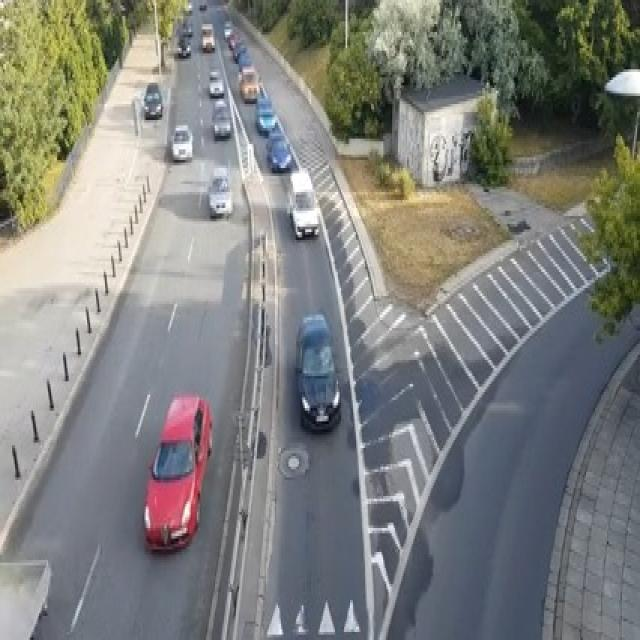car: (143, 392, 212, 552), (294, 312, 341, 432), (287, 168, 318, 237), (207, 165, 233, 219), (266, 125, 291, 171), (237, 64, 260, 101), (254, 96, 276, 133), (212, 98, 231, 138), (172, 123, 192, 160), (143, 80, 162, 117), (200, 21, 215, 51), (209, 67, 224, 96), (176, 35, 191, 56), (232, 40, 246, 61), (227, 29, 242, 48), (222, 19, 233, 40), (182, 21, 192, 35), (184, 0, 192, 13), (198, 0, 206, 11)
